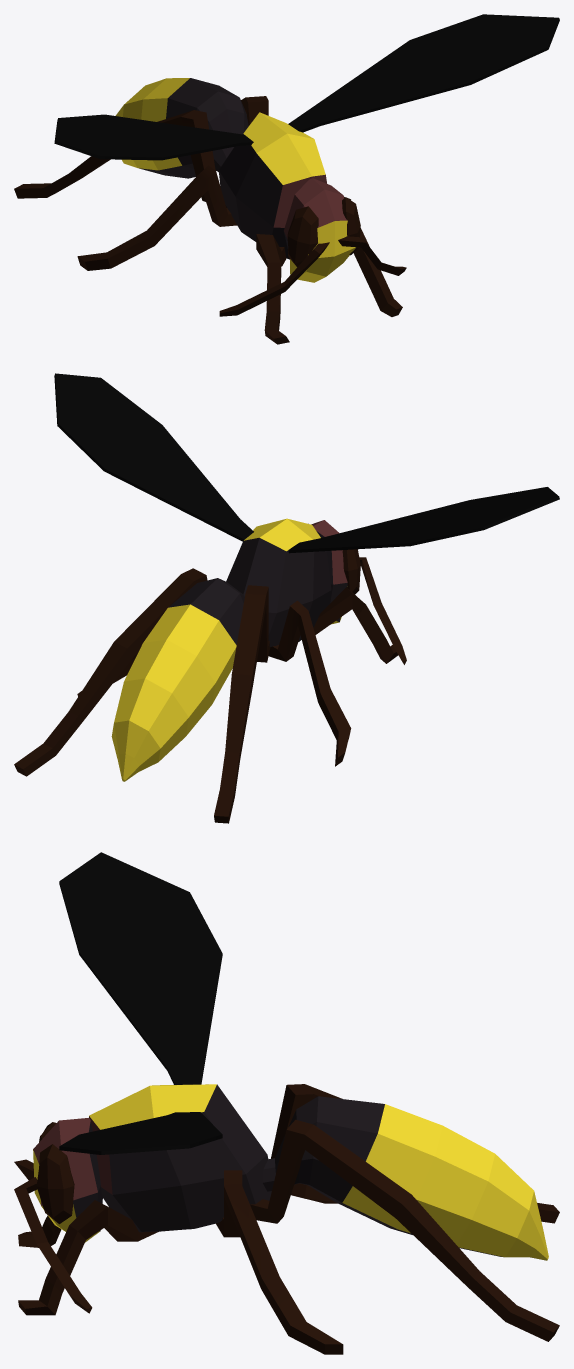
File: Mesh_Hornet.obj
3 renders of one model, top to bottom at view 1: azimuth 30°, elevation 25°; view 2: azimuth 150°, elevation 25°; view 3: azimuth 270°, elevation 25°, orthographic. The views are drawn at different scales.
Visible parts, largest first — view 1: Geo_Hornet; view 2: Geo_Hornet; view 3: Geo_Hornet.
Boxes of the visible parts, left/top/right/bottom form: Geo_Hornet: left=14, top=14, right=559, bottom=344; Geo_Hornet: left=14, top=373, right=559, bottom=823; Geo_Hornet: left=14, top=852, right=559, bottom=1354.
Size of the model in its own units: 135 by 58.42 by 104.
2 materials, 1 textured.
